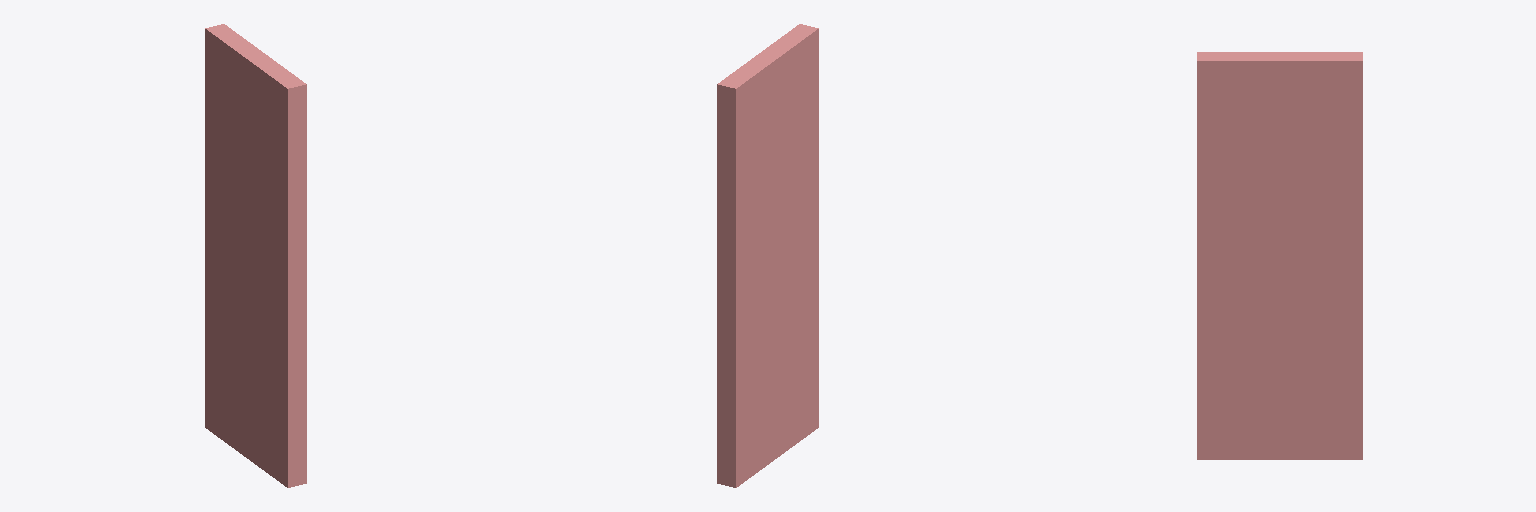
3 renders of one model, left to right at view 1: azimuth 30°, elevation 25°; view 2: azimuth 150°, elevation 25°; view 3: azimuth 270°, elevation 25°, orthographic.
Parts seen in each view (by area): view 1: door; view 2: door; view 3: door.
Boxes of the visible parts, x1,y1,x2,y2 form: door: [205, 24, 306, 487]; door: [717, 24, 818, 487]; door: [1197, 52, 1362, 459].
Bounding box in the file's own units: 2 × 40 × 15.
1 materials, 1 textured.